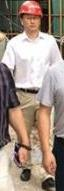boots: (41, 177, 56, 191), (20, 168, 31, 181)
hard-hat: (0, 5, 22, 41)
